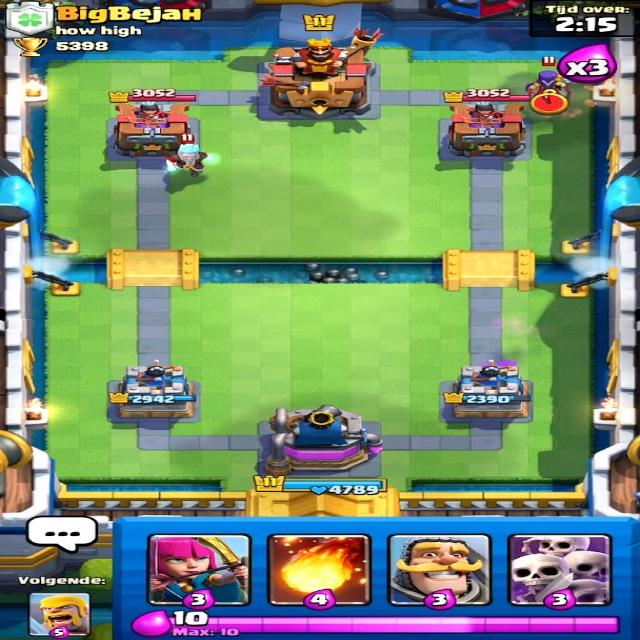Enemy_Ice_Wizard_Troop: (160, 138, 226, 178)
Fireball_Card: (268, 534, 364, 605)
